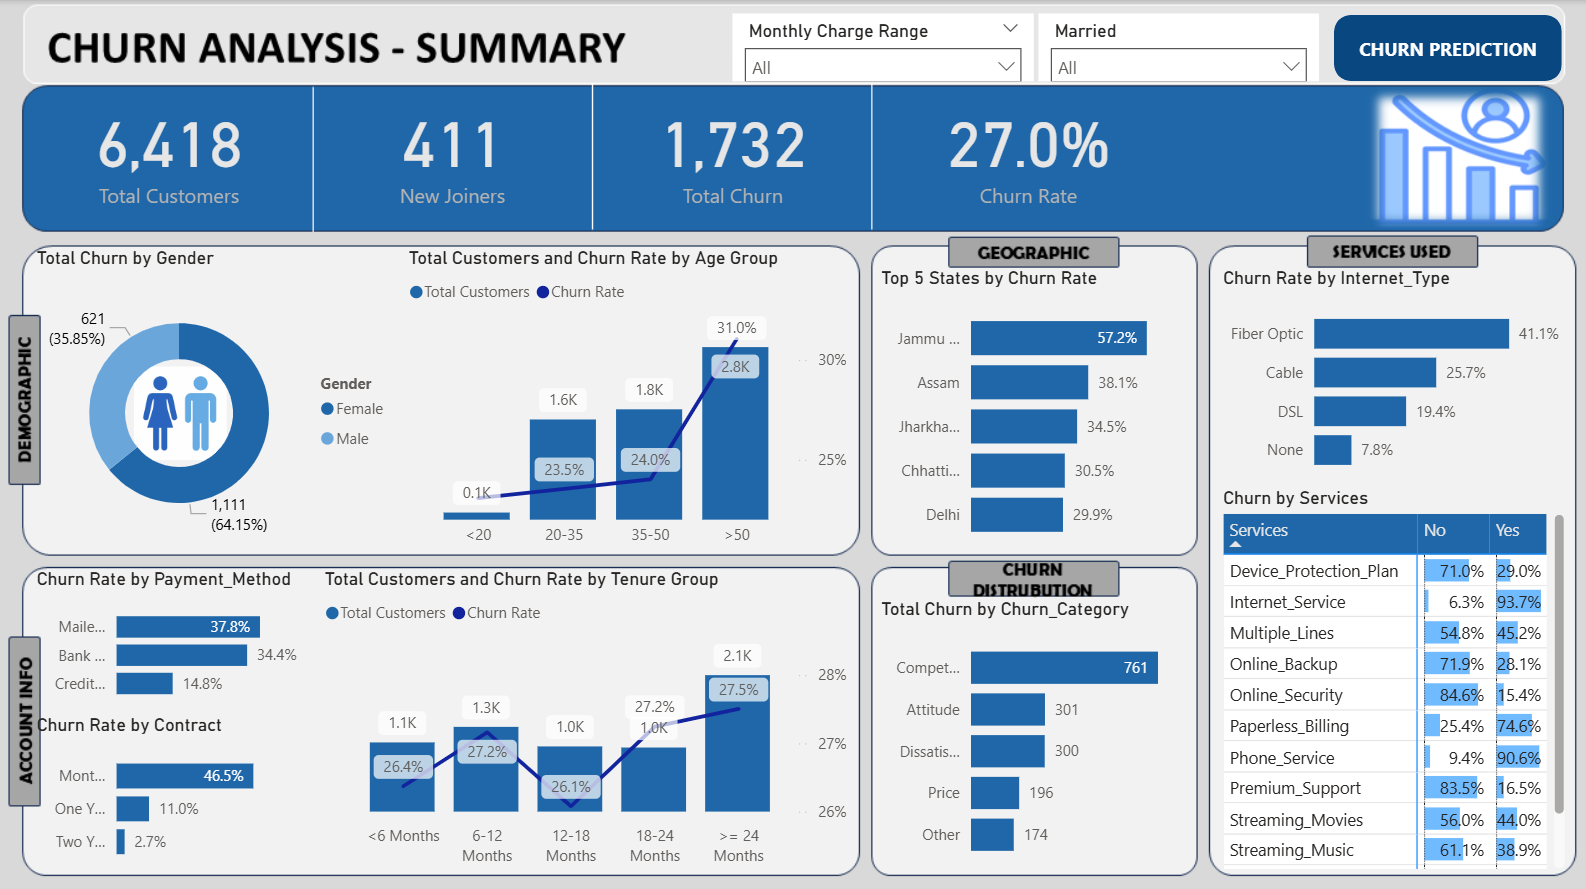

Layout of this report page (visuals, bound fields, positions):
{"tool":"powerbi","page":{"name":"Summary","canvas":[1280,720],"ordinal":0},"visuals":[{"type":"image","box":[108.7,284,74.9,97.9],"z":0},{"type":"card","fields":{"Values":["tbl_measures.Total Customers"]},"box":[25.4,54.4,222.3,132.9],"z":1000},{"type":"card","fields":{"Values":["tbl_measures.Total Churn"]},"box":[482.1,54.4,217.5,132.9],"z":2000},{"type":"card","fields":{"Values":["tbl_measures.New Joiners"]},"box":[257.4,54.4,215.1,132.9],"z":3000},{"type":"card","fields":{"Values":["tbl_measures.Churn Rate"]},"box":[708.1,54.4,241.7,132.9],"z":4000},{"type":"actionButton","box":[0,0,100,40],"z":5000},{"type":"donutChart","fields":{"Category":["prod_churn.Gender"],"Y":["tbl_measures.Total Churn"]},"box":[25.4,199.4,299.7,250.1],"z":6000},{"type":"lineStackedColumnComboChart","fields":{"Y":["tbl_measures.Total Customers"],"Category":["mapping_age_group.Age Group"],"Y2":["tbl_measures.Churn Rate"]},"box":[325,199.4,362.5,248.9],"z":7000},{"type":"clusteredBarChart","fields":{"Category":["prod_churn.Payment_Method"],"Y":["tbl_measures.Churn Rate"]},"box":[25.4,458,222.3,116],"z":8000},{"type":"clusteredBarChart","fields":{"Category":["prod_churn.Contract"],"Y":["tbl_measures.Churn Rate"]},"box":[25.4,575.2,222.3,129.3],"z":9000},{"type":"lineStackedColumnComboChart","fields":{"Y2":["tbl_measures.Churn Rate"],"Y":["tbl_measures.Total Customers"],"Category":["mapping_tenure_group.Tenure Group "]},"box":[257.4,458,430.2,246.5],"z":10000},{"type":"clusteredBarChart","title":"Top 5 States by Churn Rate","fields":{"Category":["prod_churn.State"],"Y":["tbl_measures.Churn Rate"]},"box":[705.7,215.1,257.4,233.2],"z":11000},{"type":"clusteredBarChart","fields":{"Category":["prod_churn.Churn_Category"],"Y":["tbl_measures.Total Churn"]},"box":[705.7,482.1,257.4,222.3],"z":12000},{"type":"clusteredBarChart","fields":{"Category":["prod_churn.Internet_Type"],"Y":["tbl_measures.Churn Rate"]},"box":[981.2,215.1,285.2,177.6],"z":13000},{"type":"pivotTable","title":"Churn by Services","fields":{"Rows":["prod_services.Services"],"Columns":["prod_services.Status"],"Values":["Sum(prod_services.Churn Status)"]},"box":[981.2,392.7,285.2,311.7],"z":14000},{"type":"slicer","fields":{"Values":["prod_churn.Monthly Charge Status"]},"box":[590.9,10.9,242.9,54.4],"z":15000},{"type":"slicer","fields":{"Values":["prod_churn.Married"]},"box":[837.4,10.9,226,54.4],"z":16000},{"type":"shape","box":[1075.4,12.1,183.7,53.2],"z":17000}]}

Visuals, with their boxes in screenshot pixels (x1, y1, x2, y2), scaled from the page's 1280x720 canvas onto the 1586x889 screenshot:
image: 135:351:227:472
card - tbl_measures.Total Customers: 31:67:307:231
card - tbl_measures.Total Churn: 597:67:867:231
card - tbl_measures.New Joiners: 319:67:585:231
card - tbl_measures.Churn Rate: 877:67:1177:231
actionButton: 0:0:124:49
donutChart - prod_churn.Gender x tbl_measures.Total Churn: 31:246:403:555
lineStackedColumnComboChart - tbl_measures.Total Customers x mapping_age_group.Age Group: 403:246:852:554
clusteredBarChart - prod_churn.Payment_Method x tbl_measures.Churn Rate: 31:566:307:709
clusteredBarChart - prod_churn.Contract x tbl_measures.Churn Rate: 31:710:307:870
lineStackedColumnComboChart - tbl_measures.Churn Rate x tbl_measures.Total Customers: 319:566:852:870
"Top 5 States by Churn Rate" clusteredBarChart: 874:266:1193:554
clusteredBarChart - prod_churn.Churn_Category x tbl_measures.Total Churn: 874:595:1193:870
clusteredBarChart - prod_churn.Internet_Type x tbl_measures.Churn Rate: 1216:266:1569:485
"Churn by Services" pivotTable: 1216:485:1569:870
slicer - prod_churn.Monthly Charge Status: 732:13:1033:81
slicer - prod_churn.Married: 1038:13:1318:81
shape: 1332:15:1560:81
